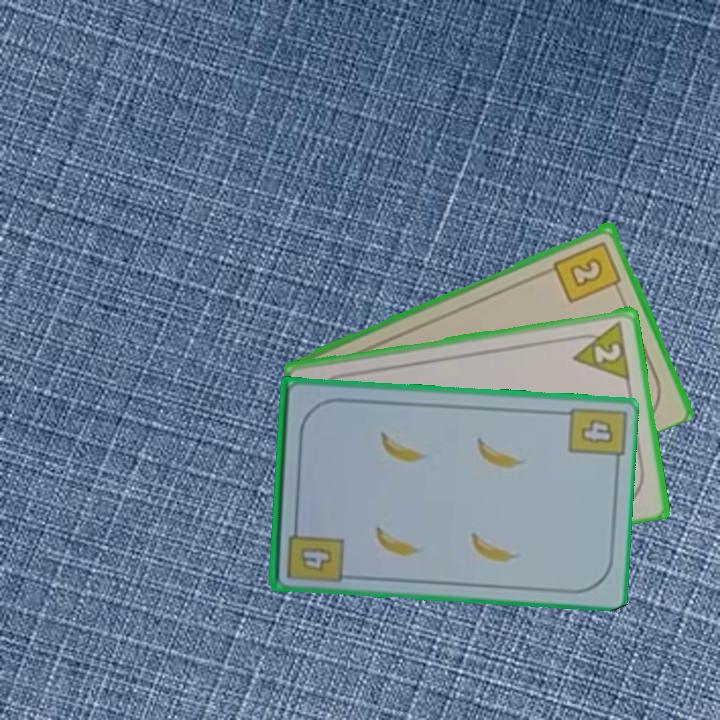2b: (550, 237, 625, 306)
2p: (567, 317, 633, 382)
4b: (283, 517, 345, 581), (578, 415, 617, 446)
